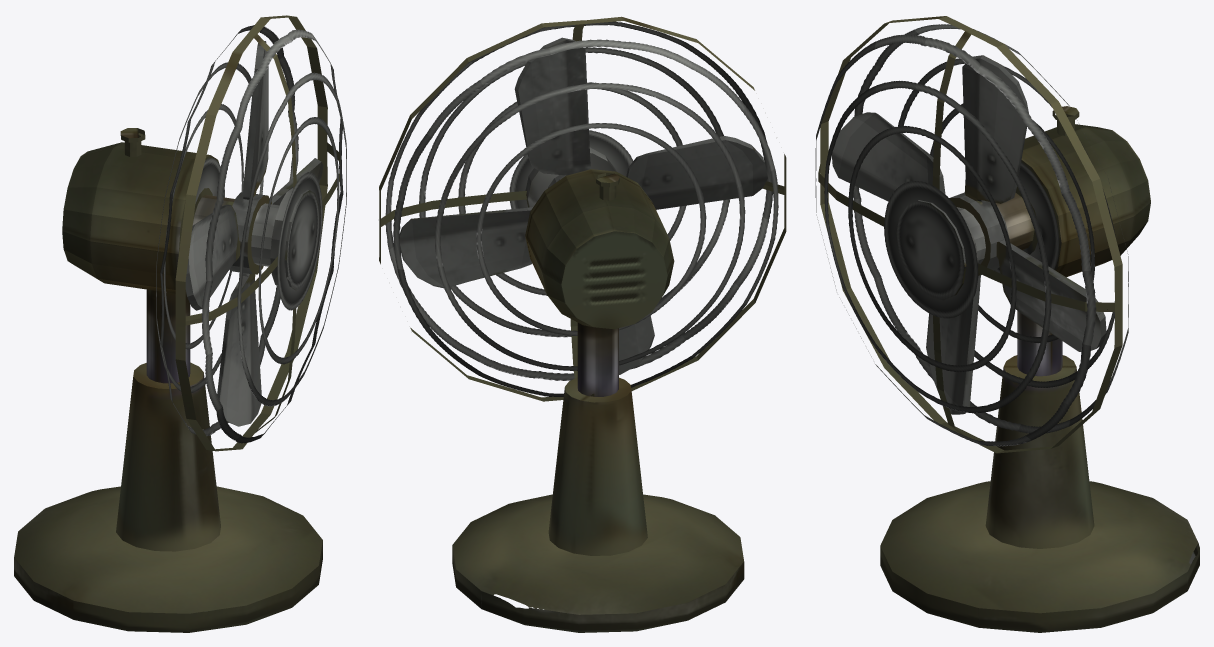
File: Desk Fan.fbx
The picture shows the model from 3 angles, left to right: view 1: azimuth 30°, elevation 25°; view 2: azimuth 150°, elevation 25°; view 3: azimuth 270°, elevation 25°; orthographic projection. The views are drawn at different scales.
Visible parts, largest first — view 1: Base, Fan Body, Fan Cage, Fans, Fan Cage Ring, Fan Switch; view 2: Base, Fan Cage, Fans, Fan Body, Fan Cage Ring; view 3: Base, Fan Cage, Fans, Fan Body, Fan Cage Ring.
Boxes of the visible parts, x1=… form: Base: x1=14, y1=289, x2=322, y2=632; Fan Body: x1=62, y1=142, x2=319, y2=295; Fan Cage: x1=156, y1=25, x2=346, y2=443; Fans: x1=185, y1=41, x2=323, y2=426; Fan Cage Ring: x1=175, y1=15, x2=340, y2=451; Fan Switch: x1=120, y1=128, x2=145, y2=156; Base: x1=452, y1=323, x2=744, y2=632; Fan Cage: x1=385, y1=21, x2=778, y2=396; Fans: x1=399, y1=37, x2=767, y2=374; Fan Body: x1=525, y1=147, x2=674, y2=329; Fan Cage Ring: x1=379, y1=16, x2=786, y2=401; Base: x1=880, y1=311, x2=1199, y2=632; Fan Cage: x1=815, y1=24, x2=1128, y2=446; Fans: x1=832, y1=55, x2=1106, y2=414; Fan Body: x1=896, y1=124, x2=1150, y2=300; Fan Cage Ring: x1=818, y1=16, x2=1122, y2=453.
Size of the model in its own units: 336 by 522 by 326.
